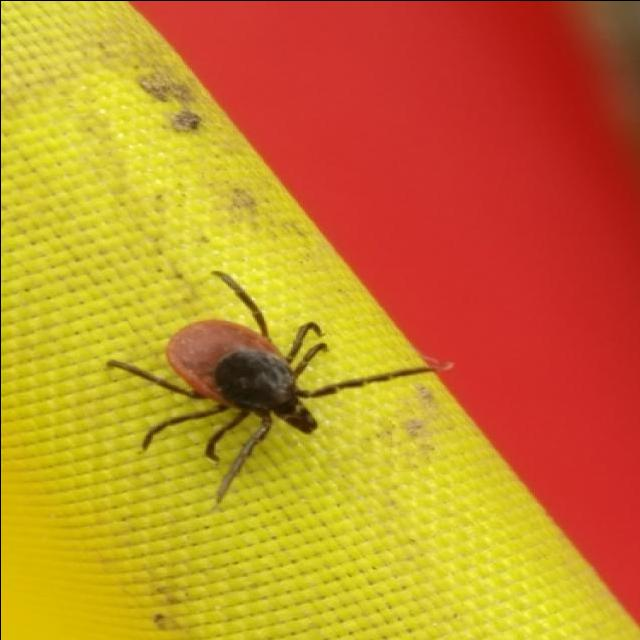Ixodes Ricinus-F: (106, 271, 437, 504)
